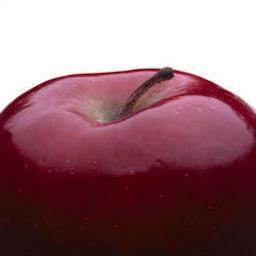apple: (0, 68, 254, 252)
